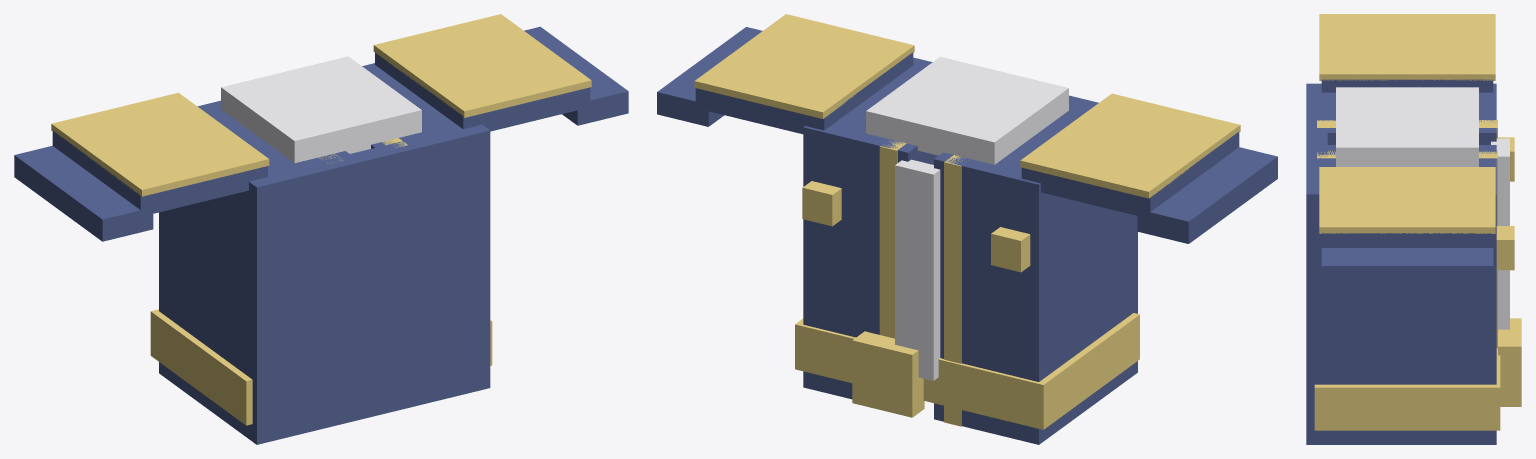
File: kamishimo_tronco.glb
The picture shows the model from 3 angles, left to right: view 1: azimuth 30°, elevation 25°; view 2: azimuth 150°, elevation 25°; view 3: azimuth 270°, elevation 25°; orthographic projection. The views are drawn at different scales.
Visible parts, largest first — view 1: kamishimo_tronco; view 2: kamishimo_tronco; view 3: kamishimo_tronco.
Part boxes in pixels (x1,y1,x2,y2): kamishimo_tronco: (14, 14, 628, 444); kamishimo_tronco: (657, 14, 1277, 444); kamishimo_tronco: (1306, 14, 1521, 444).
Bounding box in the file's own units: 1.24 × 0.63 × 0.4525.
